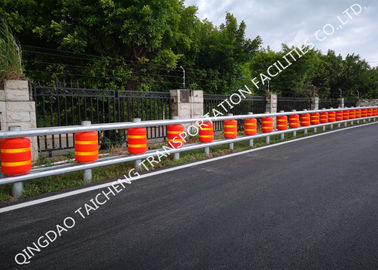not_damaged: (6, 87, 370, 176)
